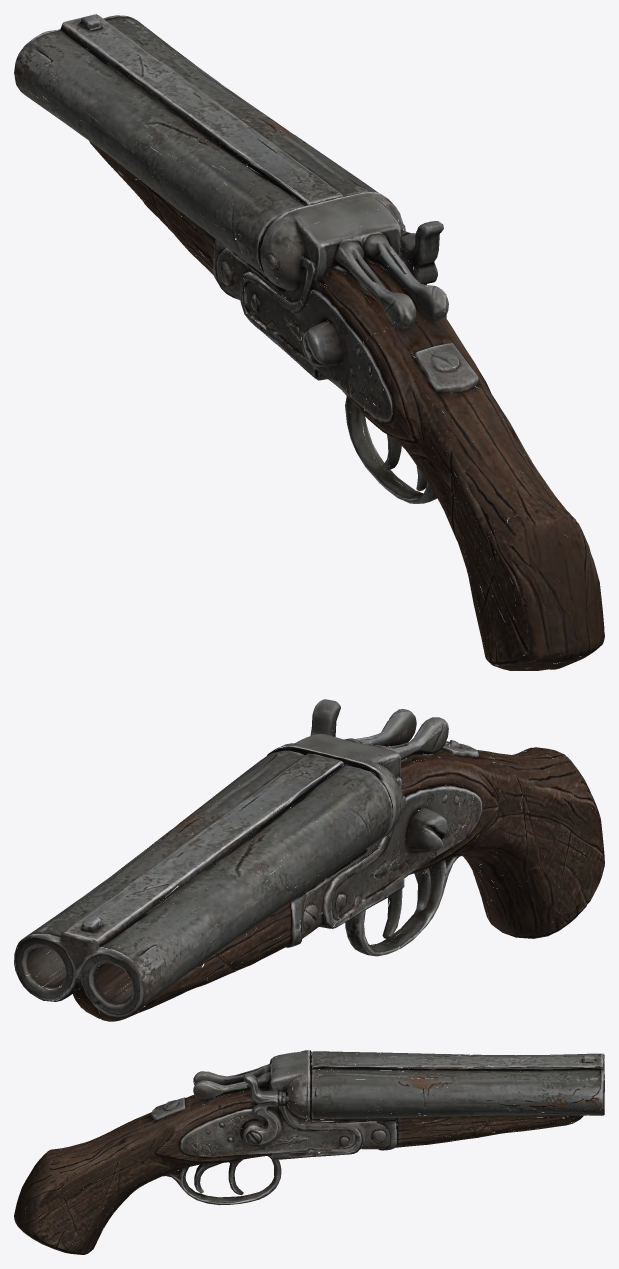
File: shotgun.glb
The picture shows the model from 3 angles, top to bottom: view 1: azimuth 30°, elevation 25°; view 2: azimuth 150°, elevation 25°; view 3: azimuth 270°, elevation 25°; orthographic projection. The views are drawn at different scales.
Visible parts, largest first — view 1: tripo_node_506439c1-1696-4da7-9bb7-e41012c544b6; view 2: tripo_node_506439c1-1696-4da7-9bb7-e41012c544b6; view 3: tripo_node_506439c1-1696-4da7-9bb7-e41012c544b6.
Part boxes in pixels (x1=…): tripo_node_506439c1-1696-4da7-9bb7-e41012c544b6: x1=14, y1=14, x2=604, y2=670; tripo_node_506439c1-1696-4da7-9bb7-e41012c544b6: x1=14, y1=699, x2=604, y2=1021; tripo_node_506439c1-1696-4da7-9bb7-e41012c544b6: x1=14, y1=1050, x2=604, y2=1254.
Size of the model in its own units: 0.0971 by 0.2247 by 0.62.
1 material, 1 textured.
